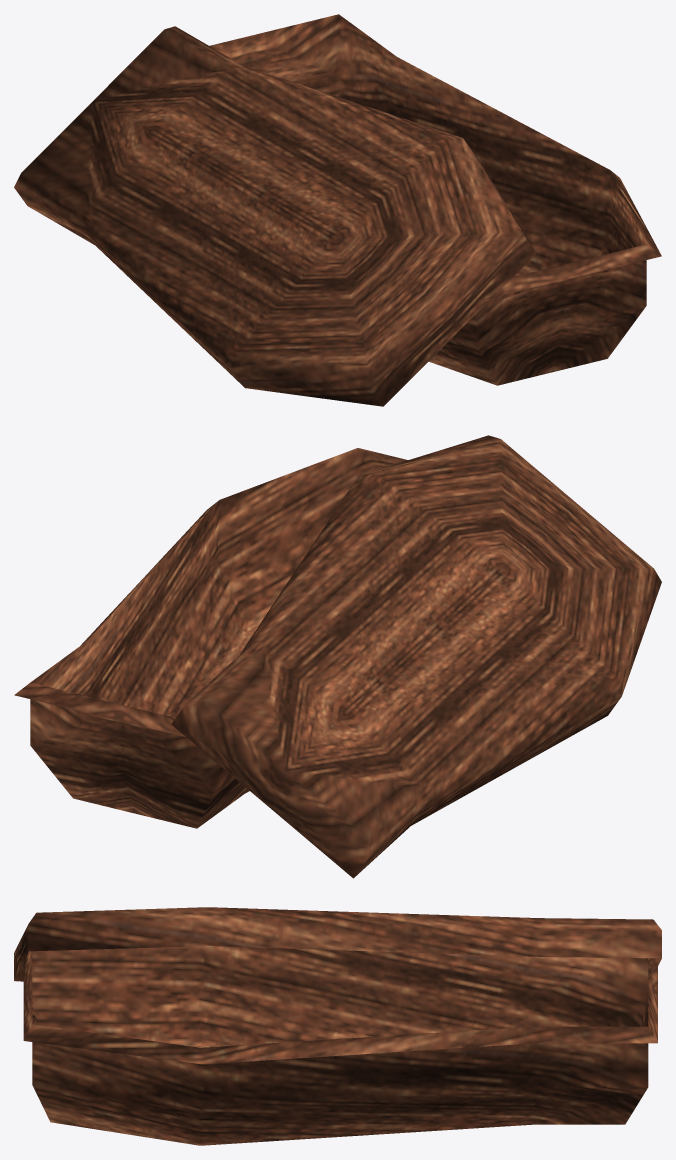
The model's file is casket_open-with_lid.glb.
3 views of the same model, one above another, from view 1: azimuth 30°, elevation 25°; view 2: azimuth 150°, elevation 25°; view 3: azimuth 270°, elevation 25° (orthographic). The views are drawn at different scales.
Visible parts, largest first — view 1: ccasket_lid-open; view 2: ccasket_lid-open; view 3: ccasket_lid-open.
Boxes of the visible parts, x1,y1,x2,y2 form: ccasket_lid-open: (14,14,661,406); ccasket_lid-open: (14,435,661,878); ccasket_lid-open: (14,907,661,1145).
Bounding box in the file's own units: 3 × 1.37 × 4.32.
2 materials, 2 textured.
